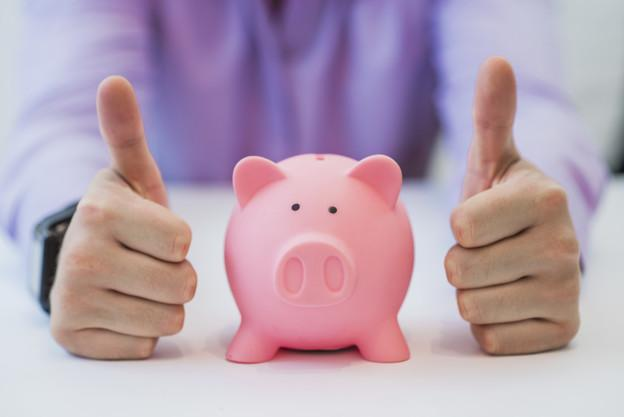thumbsup: (49, 75, 197, 362), (444, 55, 583, 355)
